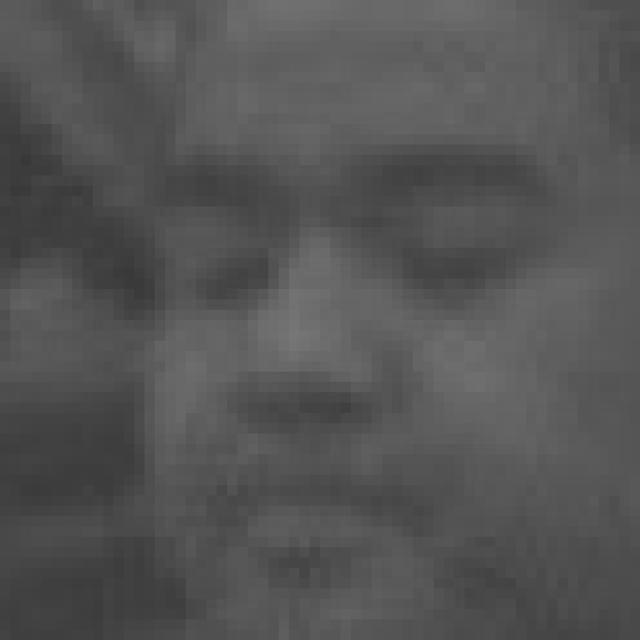real: (130, 11, 626, 628), (185, 201, 527, 315)
